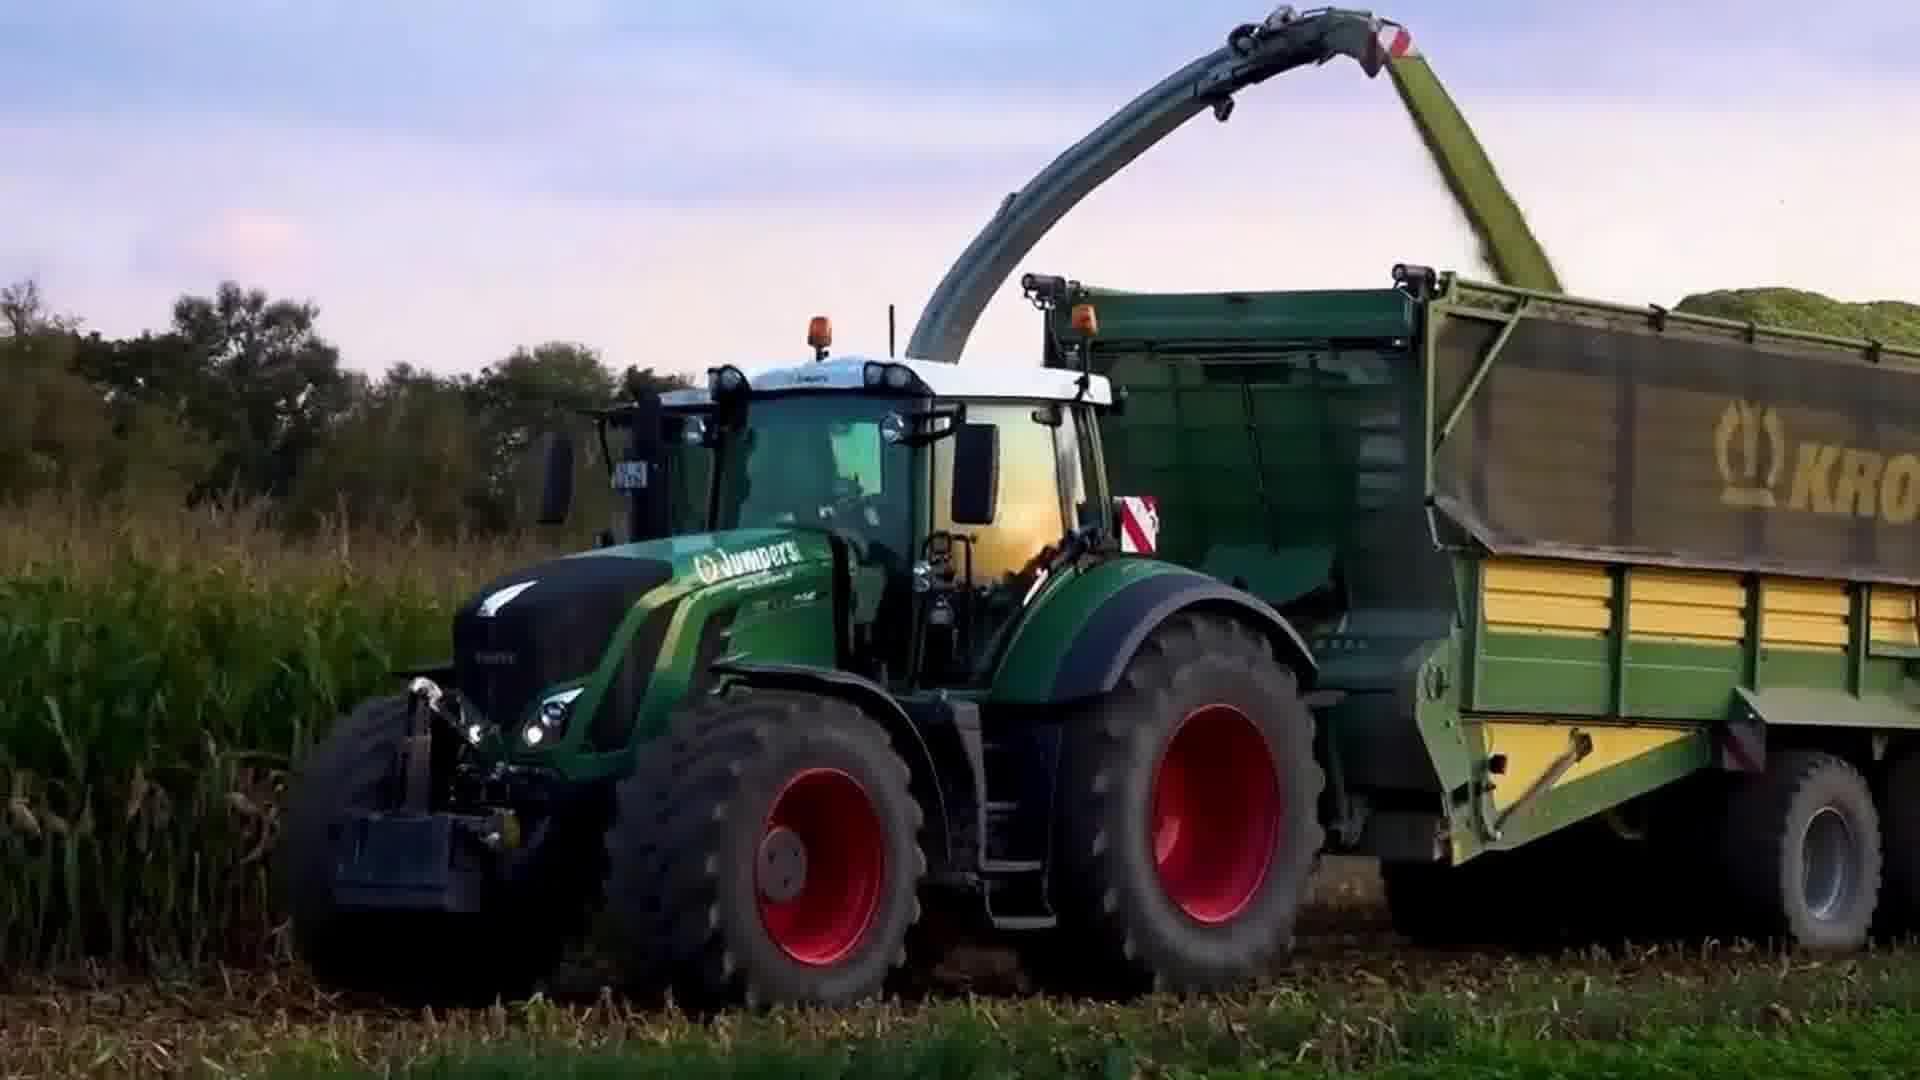tractor: (269, 311, 1325, 1011)
trailer: (1029, 258, 1920, 981)
